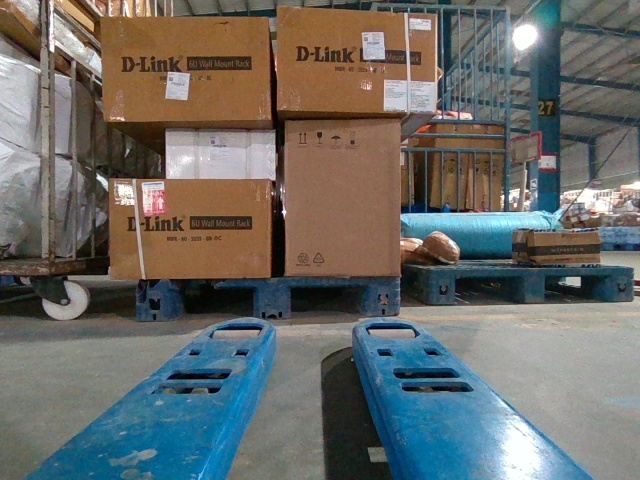pallet: (141, 276, 399, 320)
